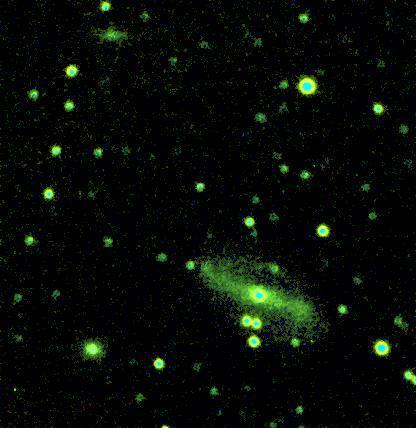star: (0, 373, 30, 403)
